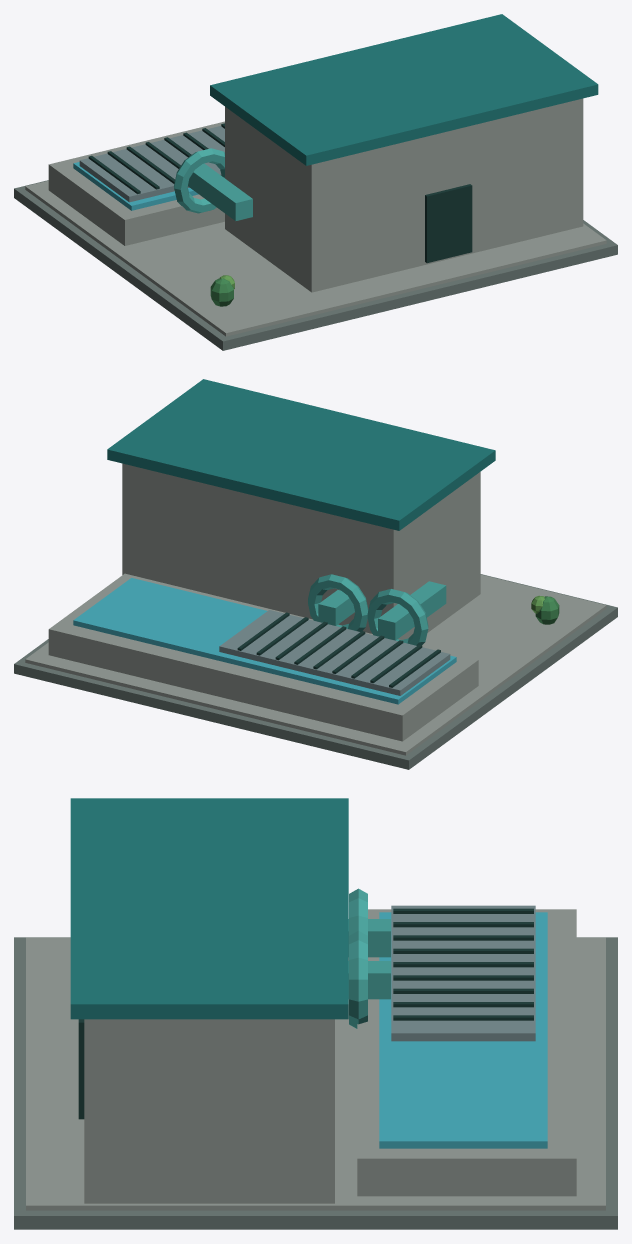
The model's file is drain_lv2.glb.
The picture shows the model from 3 angles, top to bottom: view 1: azimuth 30°, elevation 25°; view 2: azimuth 150°, elevation 25°; view 3: azimuth 270°, elevation 25°; orthographic projection. The views are drawn at different scales.
Parts seen in each view (by area): view 1: rough, metallic, glossy; view 2: rough, glossy, metallic; view 3: rough, glossy, metallic.
Boxes of the visible parts, bbox=[...] form: rough: bbox=[14, 14, 617, 350]; metallic: bbox=[79, 126, 224, 202]; glossy: bbox=[73, 162, 198, 210]; rough: bbox=[14, 379, 617, 769]; glossy: bbox=[73, 578, 456, 704]; metallic: bbox=[219, 610, 450, 695]; rough: bbox=[14, 798, 617, 1229]; glossy: bbox=[379, 912, 547, 1148]; metallic: bbox=[391, 905, 535, 1041].
Bounding box in the file's own units: 9.6 × 3.62 × 8.8.
